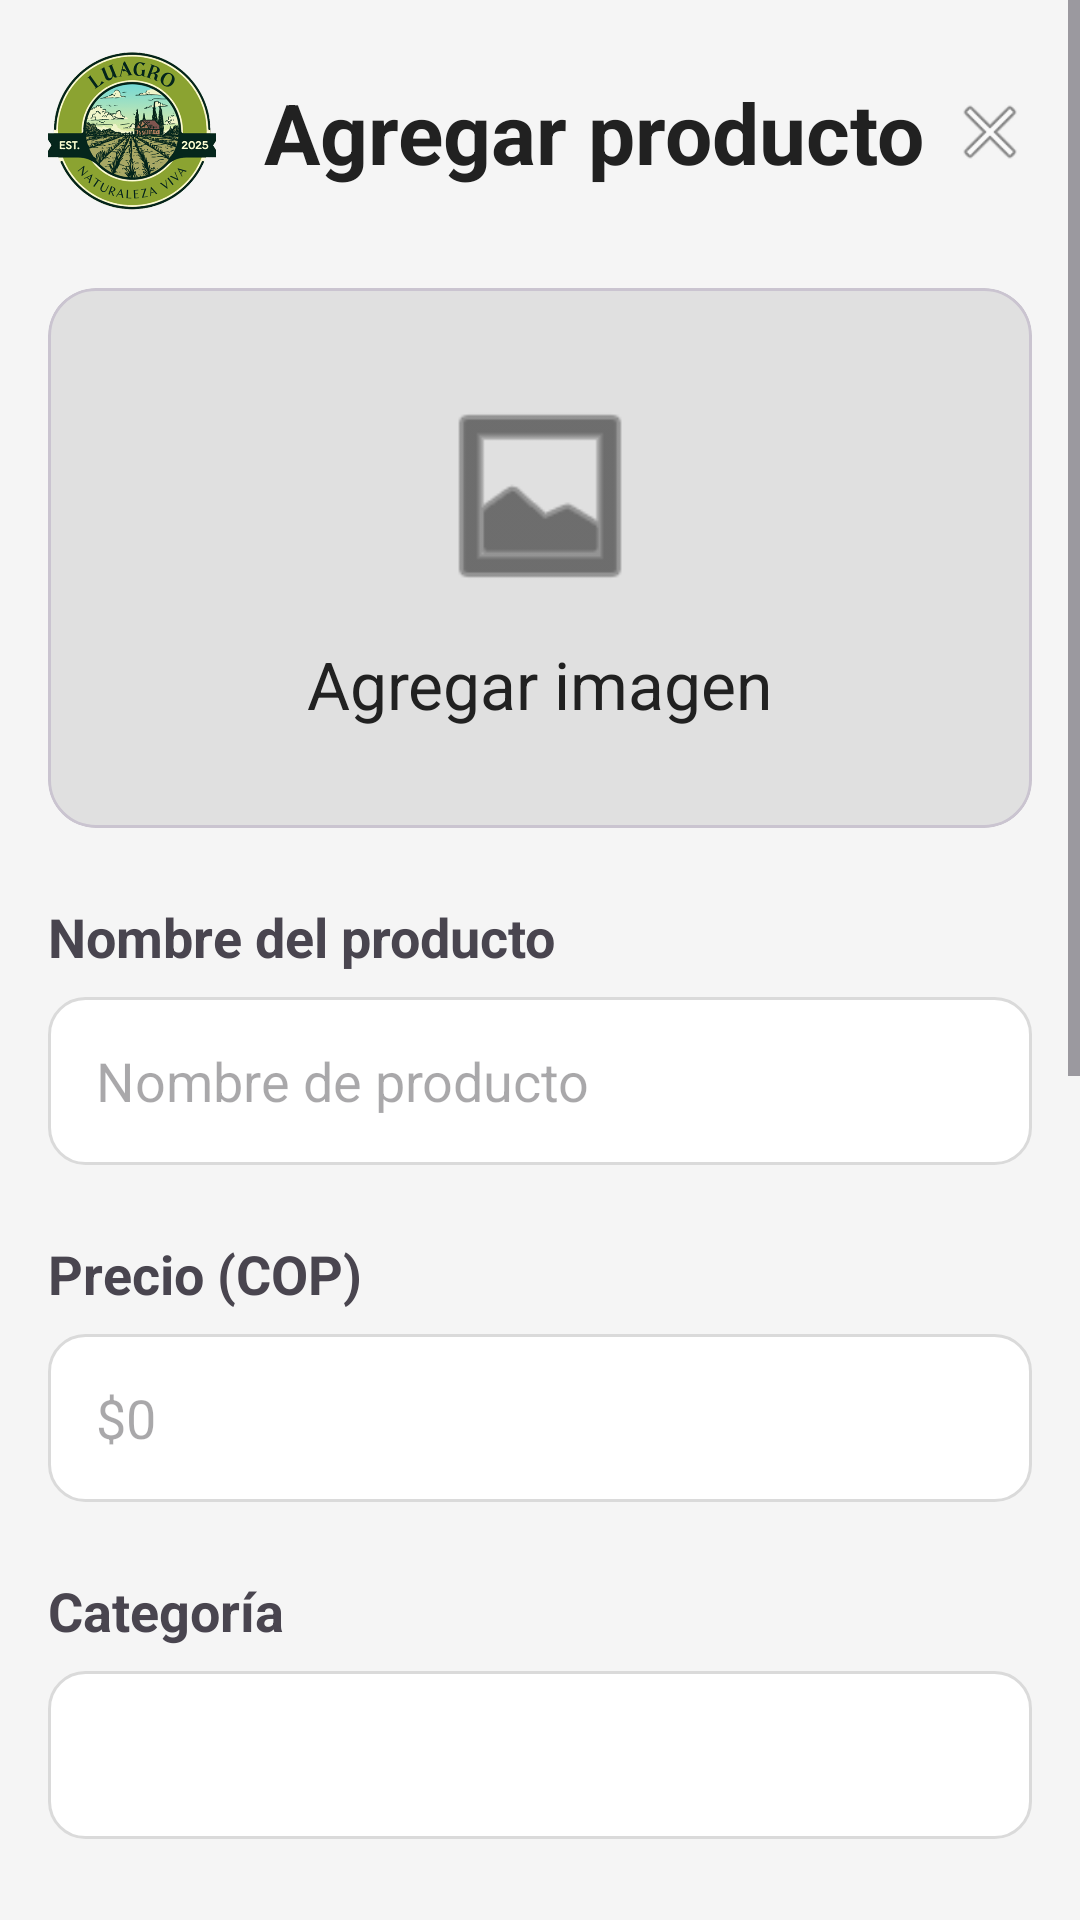

Where to tap for icons on this 1080 × 1920 app screen, as point (x, y):
close clear cancel: point (990, 132)
gallery: point (540, 496)
